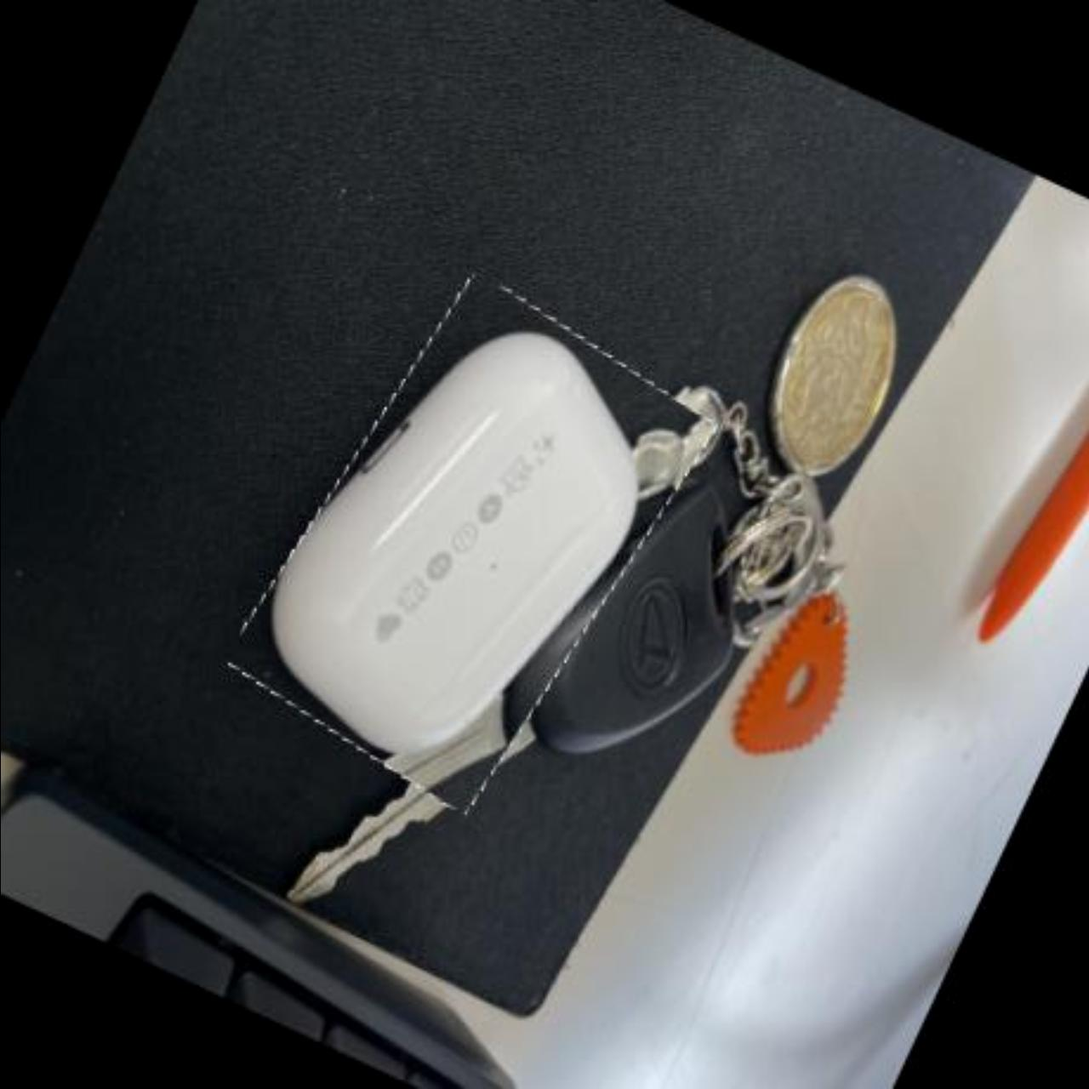AirPods: (225, 257, 717, 827)
